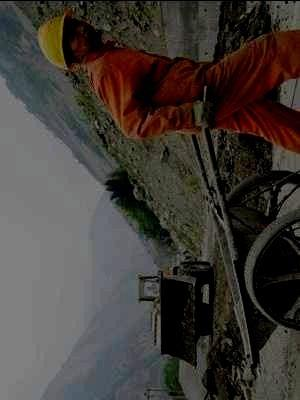helmet: (35, 9, 99, 73)
